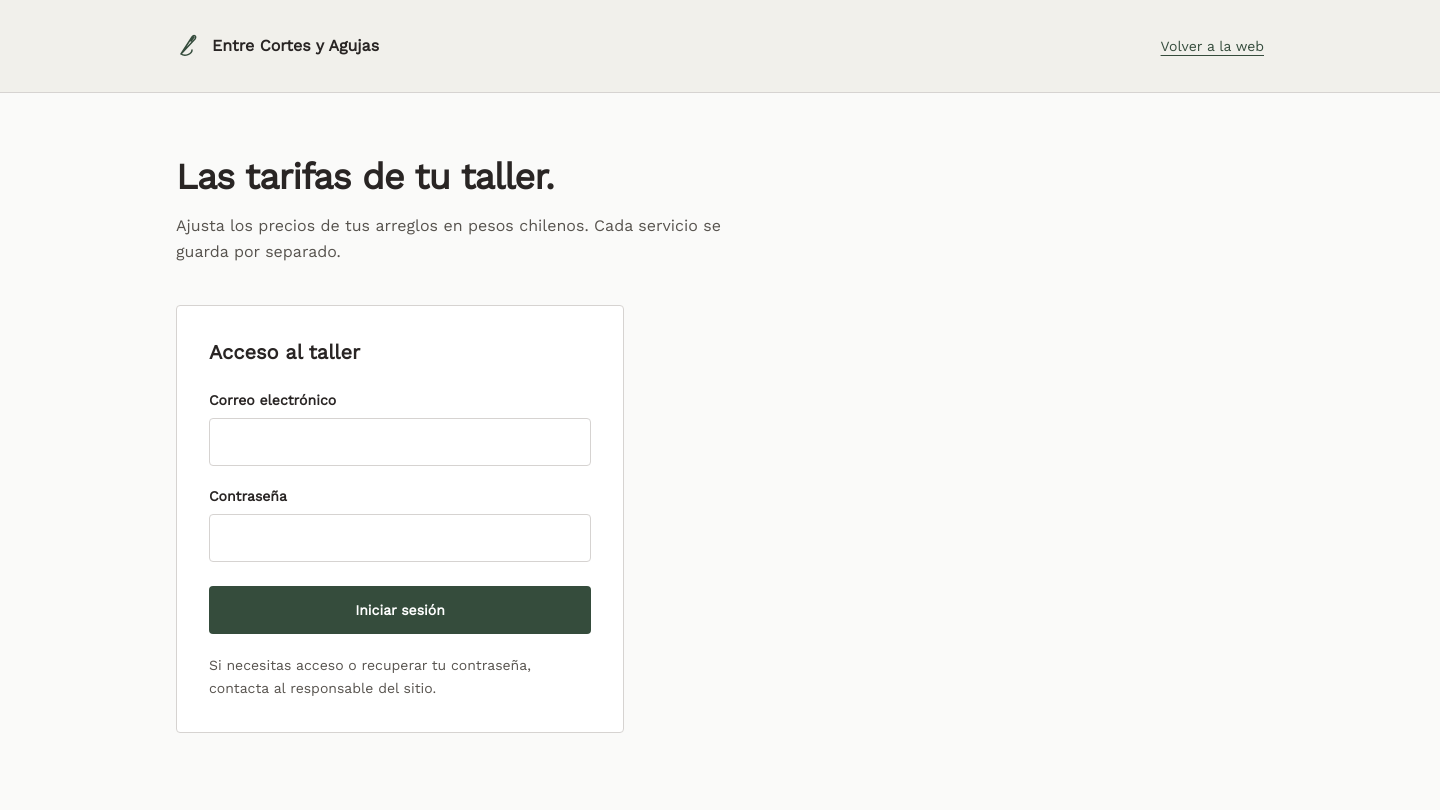
it: price administration › signs in through Supabase and signs out without leaving the editor visible
Check: the button "Iniciar sesión" is enabled, box [209, 586, 591, 634]
Type "admin@example.test" into the field labelled "Correo electrónico".
click(400, 442); type("admin@example.test")  # box [209, 418, 591, 466]
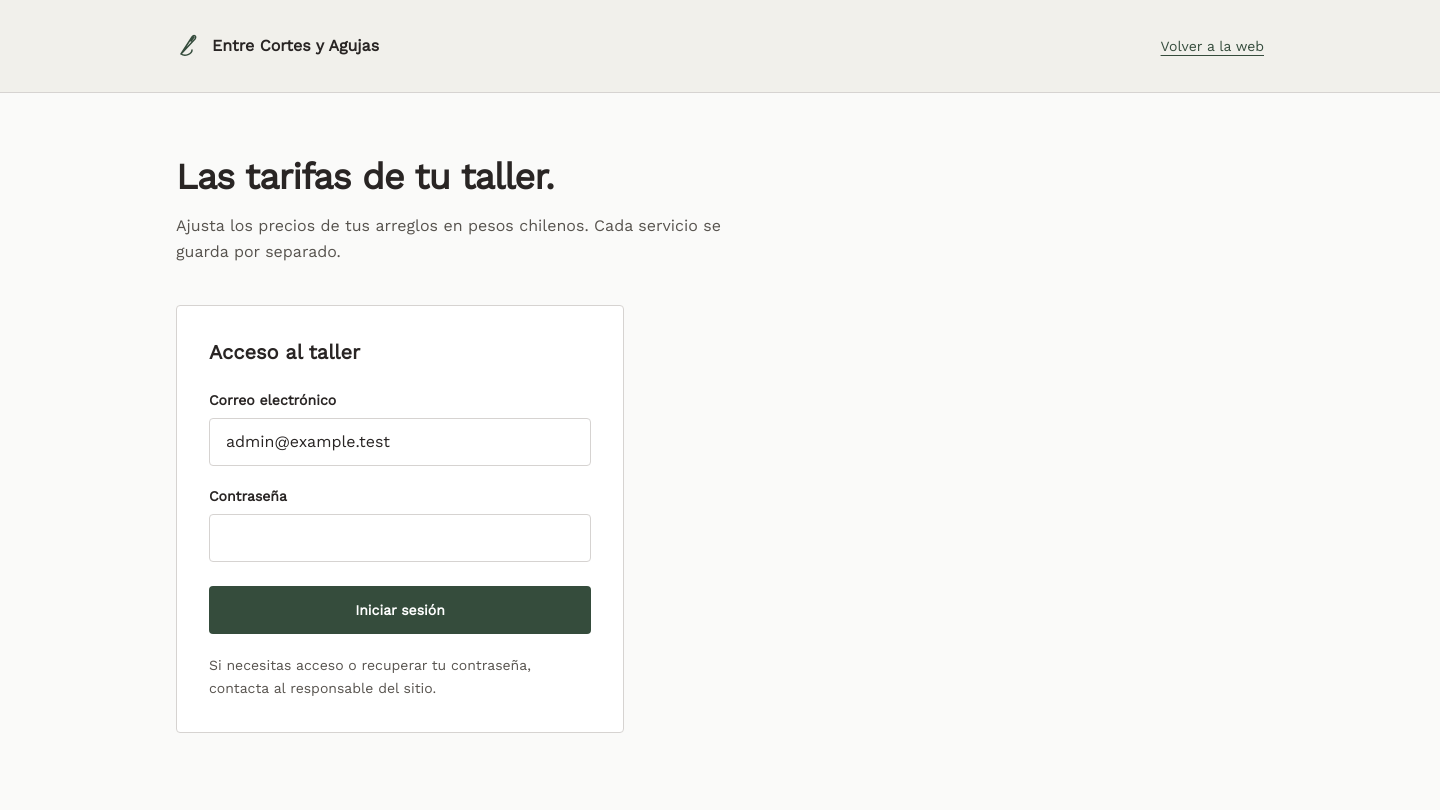
Type "test-password" into the password field labelled "Contraseña".
click(400, 538); type("test-password")  # box [209, 514, 591, 562]
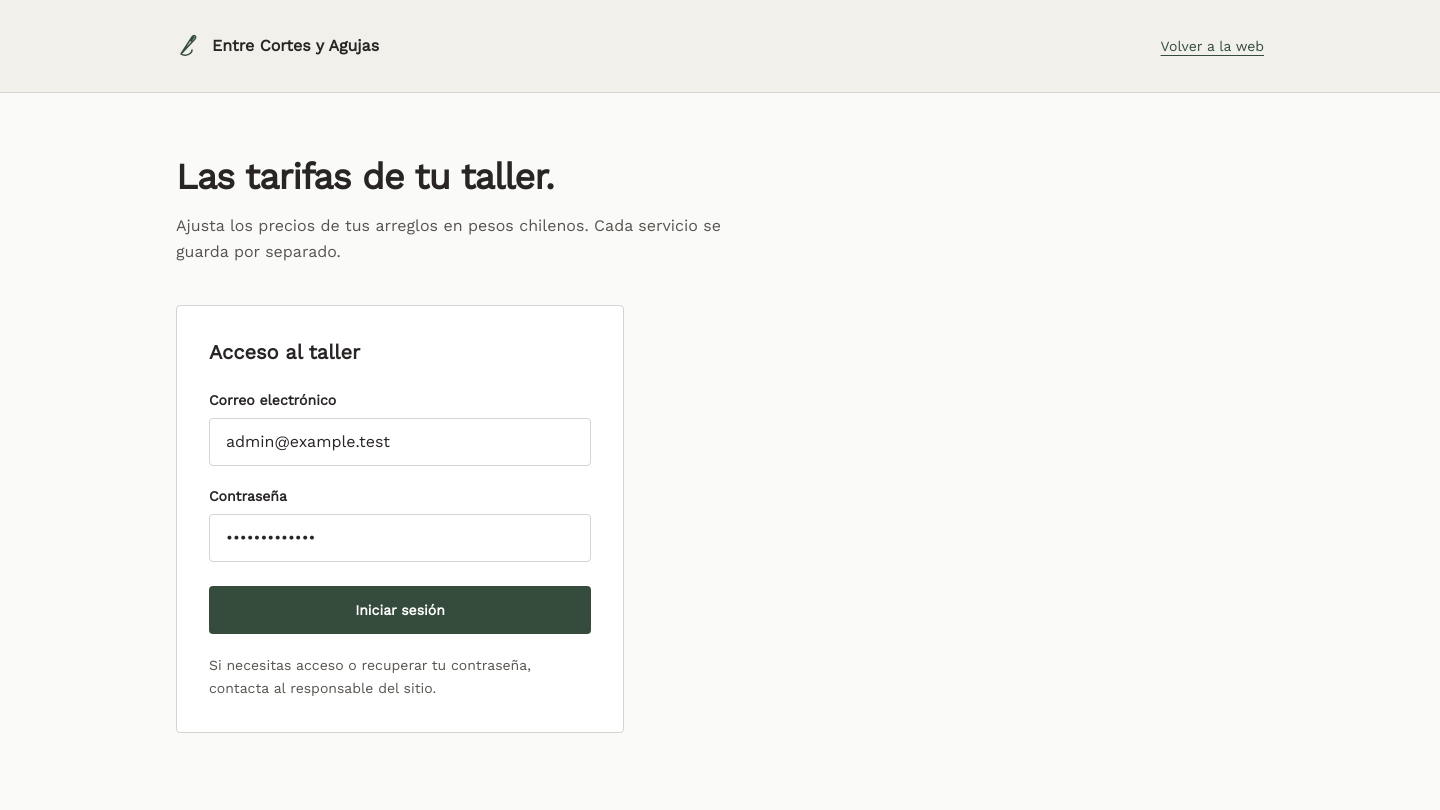
Click the button "Iniciar sesión".
click(400, 610)  # box [209, 586, 591, 634]
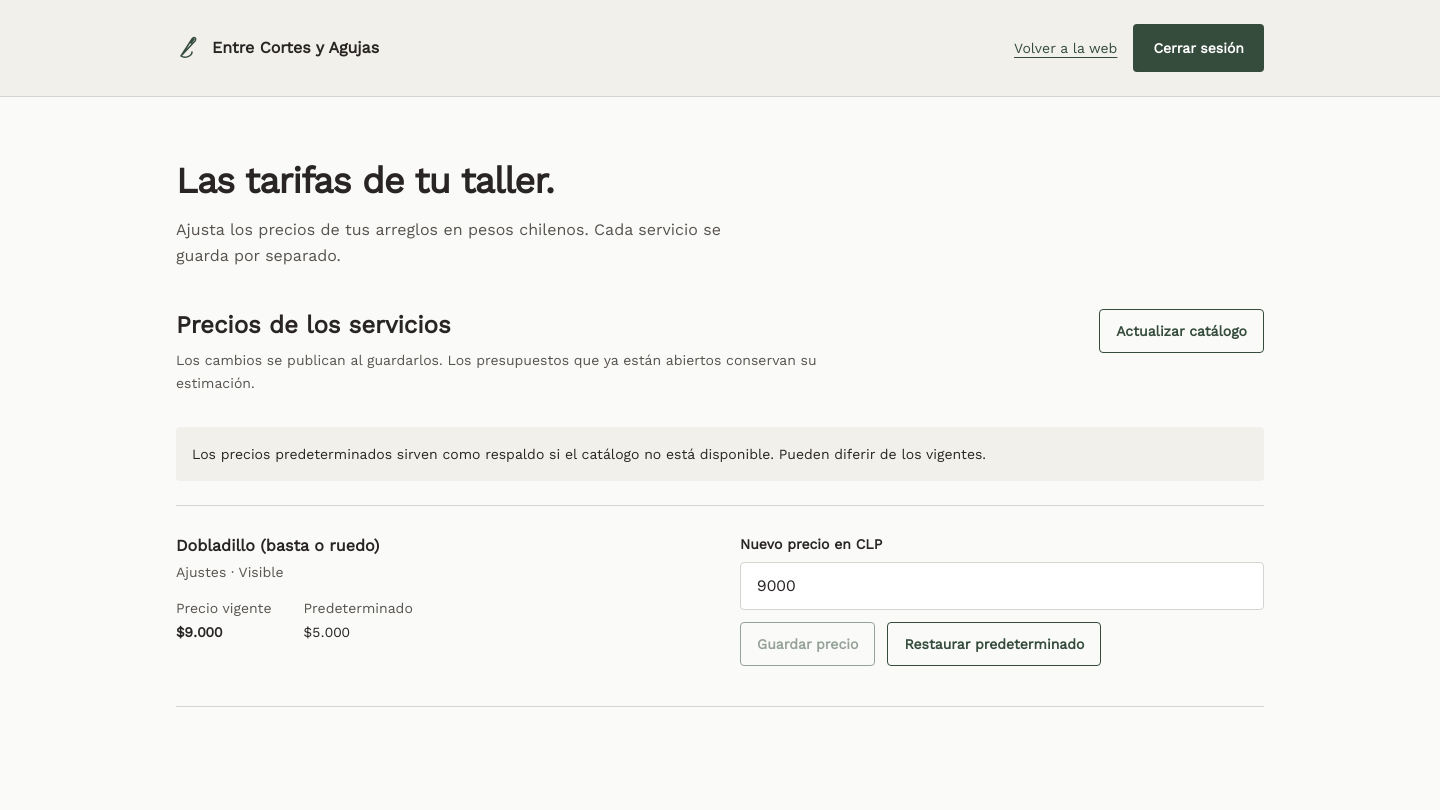
Check: the form "Dobladillo (basta o ruedo)" is shown, box [176, 506, 1264, 706]
Click the button "Cerrar sesión".
click(1199, 48)  # box [1133, 24, 1264, 72]
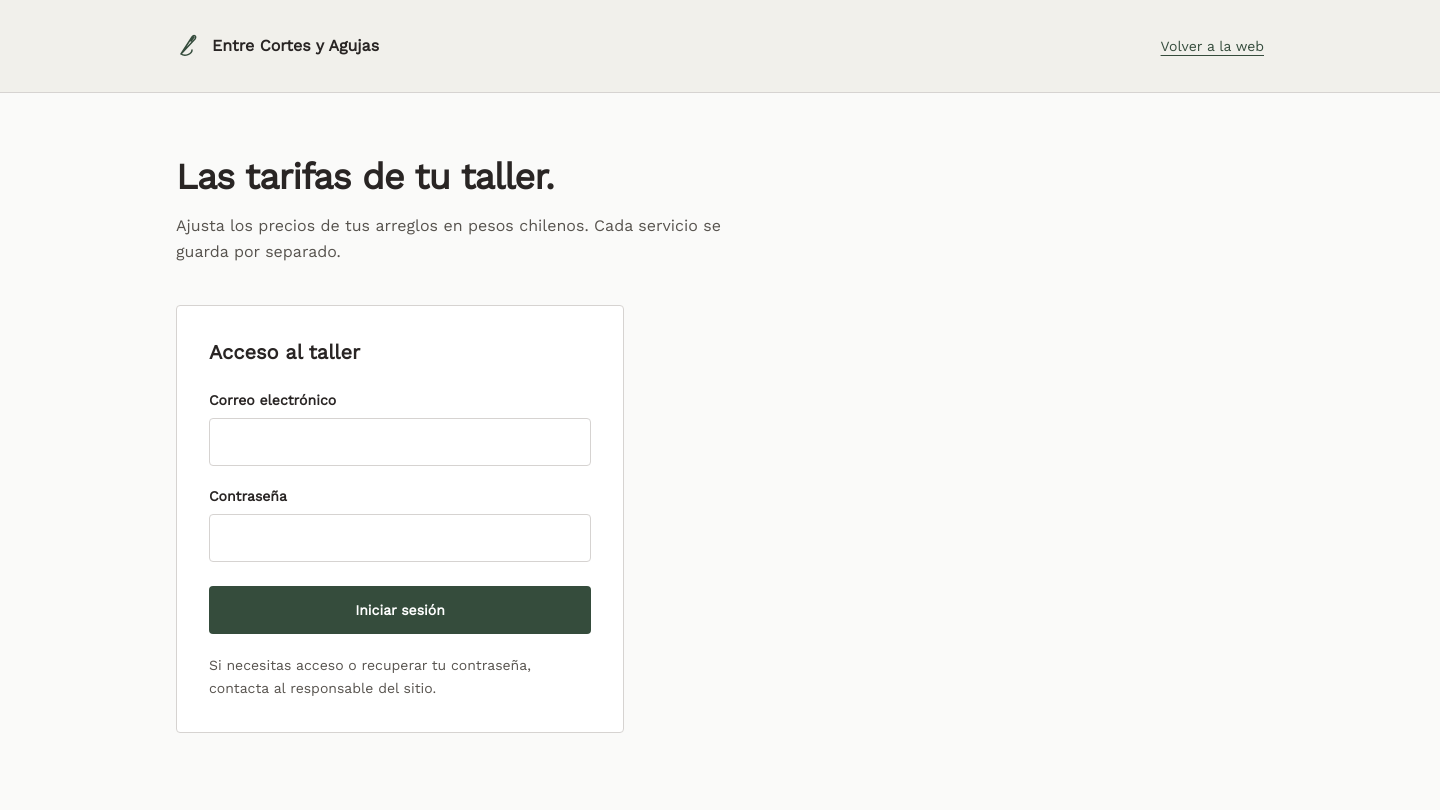
Check: the button "Iniciar sesión" is shown, box [209, 586, 591, 634]
Check: the heading "Dobladillo (basta o ruedo)" is gone
